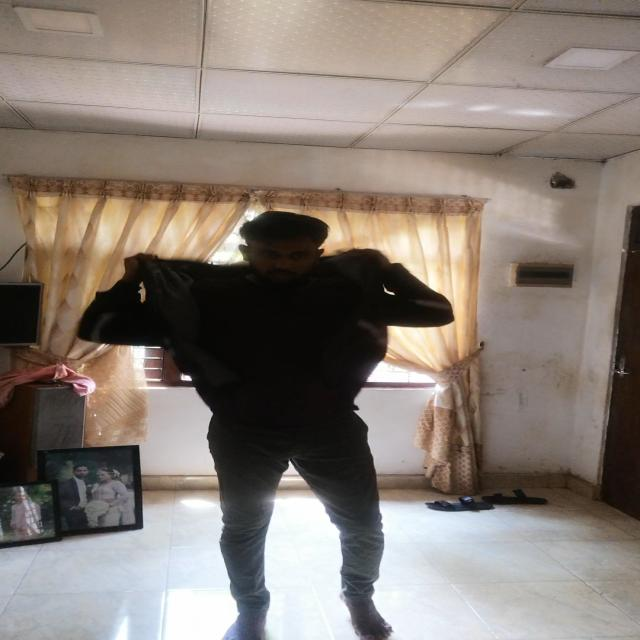Jacket_Wearer: (89, 243, 471, 444)
Person: (147, 193, 446, 639)
